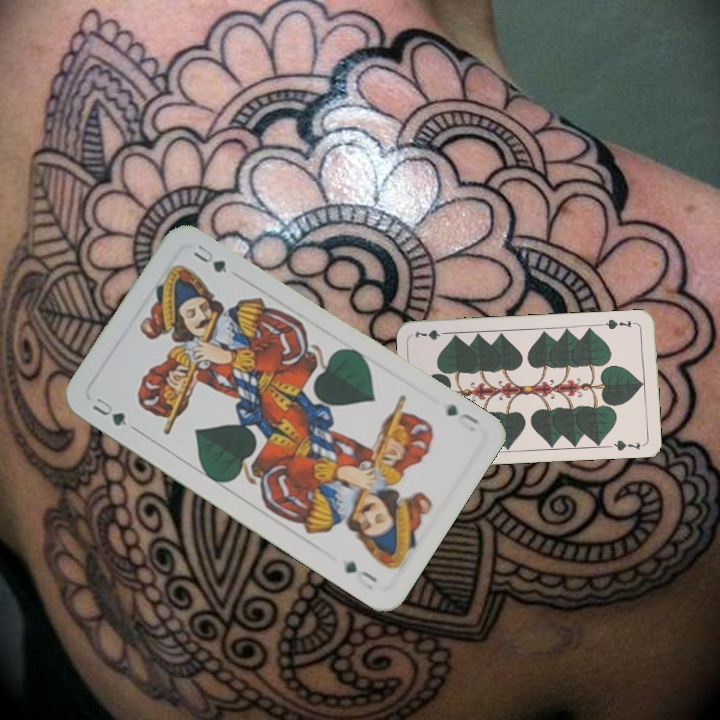G7: (599, 315, 640, 332)
GU: (88, 393, 139, 433), (442, 399, 482, 427)
